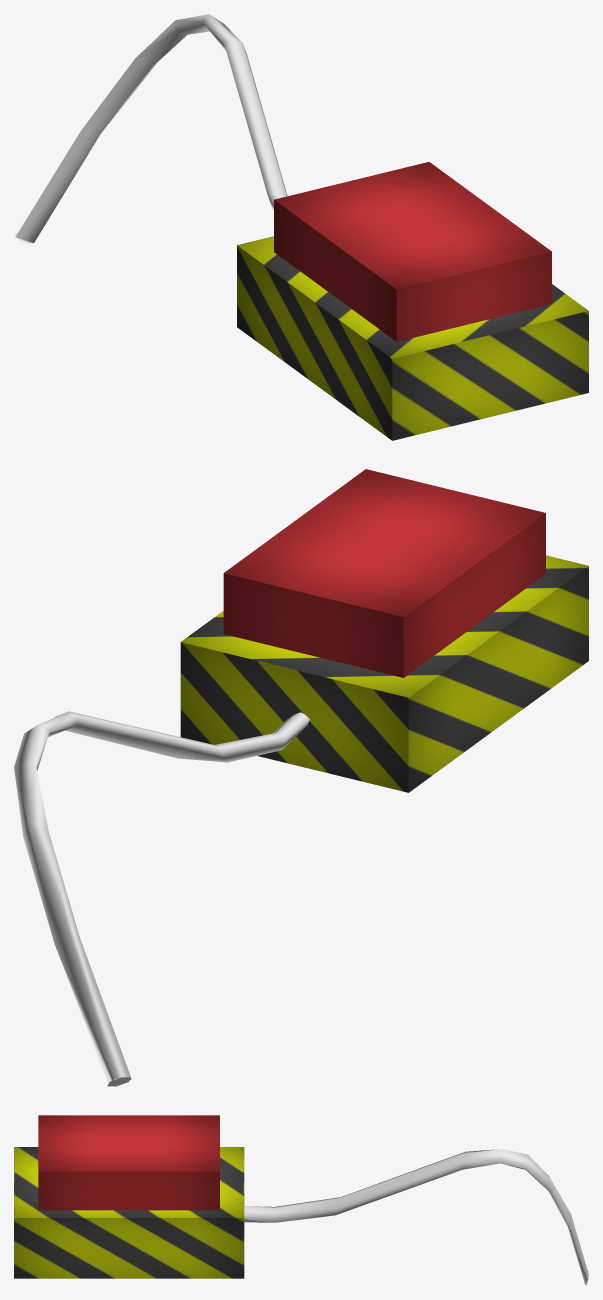
Rendered from button.fbx.
3 renders of one model, top to bottom at view 1: azimuth 30°, elevation 25°; view 2: azimuth 150°, elevation 25°; view 3: azimuth 270°, elevation 25°, orthographic. The views are drawn at different scales.
Parts seen in each view (by area): view 1: Cube.039, Cube.040, BézierCurve.002; view 2: Cube.039, Cube.040, BézierCurve.002; view 3: Cube.039, Cube.040, BézierCurve.002.
Boxes of the visible parts, <box> form: Cube.039: <box>237,236,588,440</box>; Cube.040: <box>274,162,551,341</box>; BézierCurve.002: <box>14,14,287,243</box>; Cube.039: <box>180,555,588,792</box>; Cube.040: <box>223,469,545,677</box>; BézierCurve.002: <box>14,711,309,1086</box>; Cube.039: <box>14,1147,244,1278</box>; Cube.040: <box>38,1115,219,1210</box>; BézierCurve.002: <box>244,1149,588,1284</box>.
Bounding box in the file's own units: 14.77 × 17.36 × 50.49.
3 materials, 2 textured.
